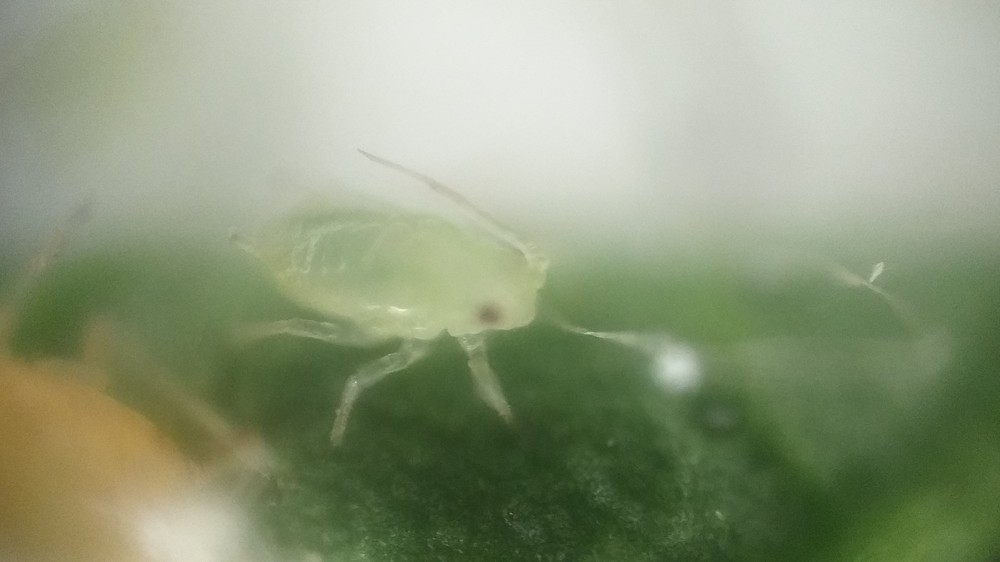Pulgon: (209, 146, 593, 441)
